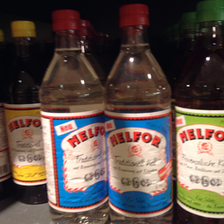vinegar: (32, 9, 111, 224), (105, 6, 178, 221), (4, 20, 54, 207), (179, 4, 224, 211)
